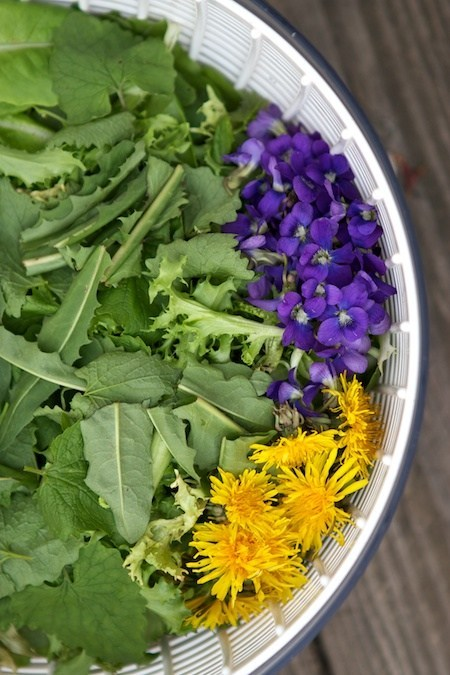violet: (232, 121, 393, 403)
